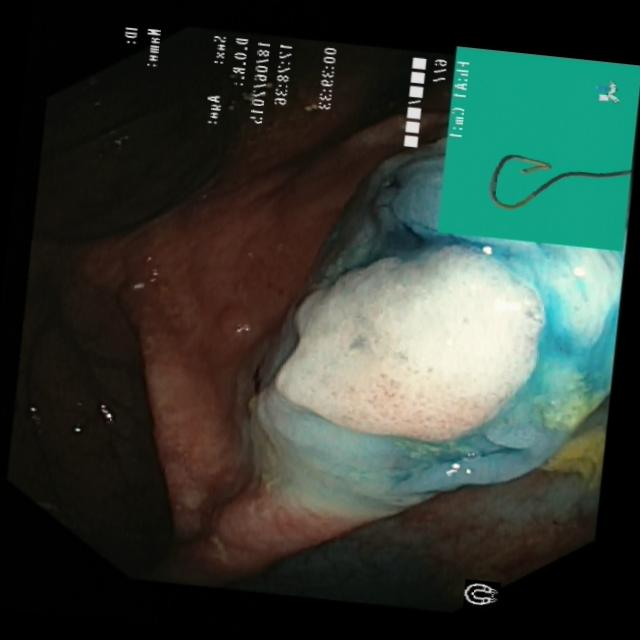dyed-lifted-polyps: (257, 234, 559, 450)
